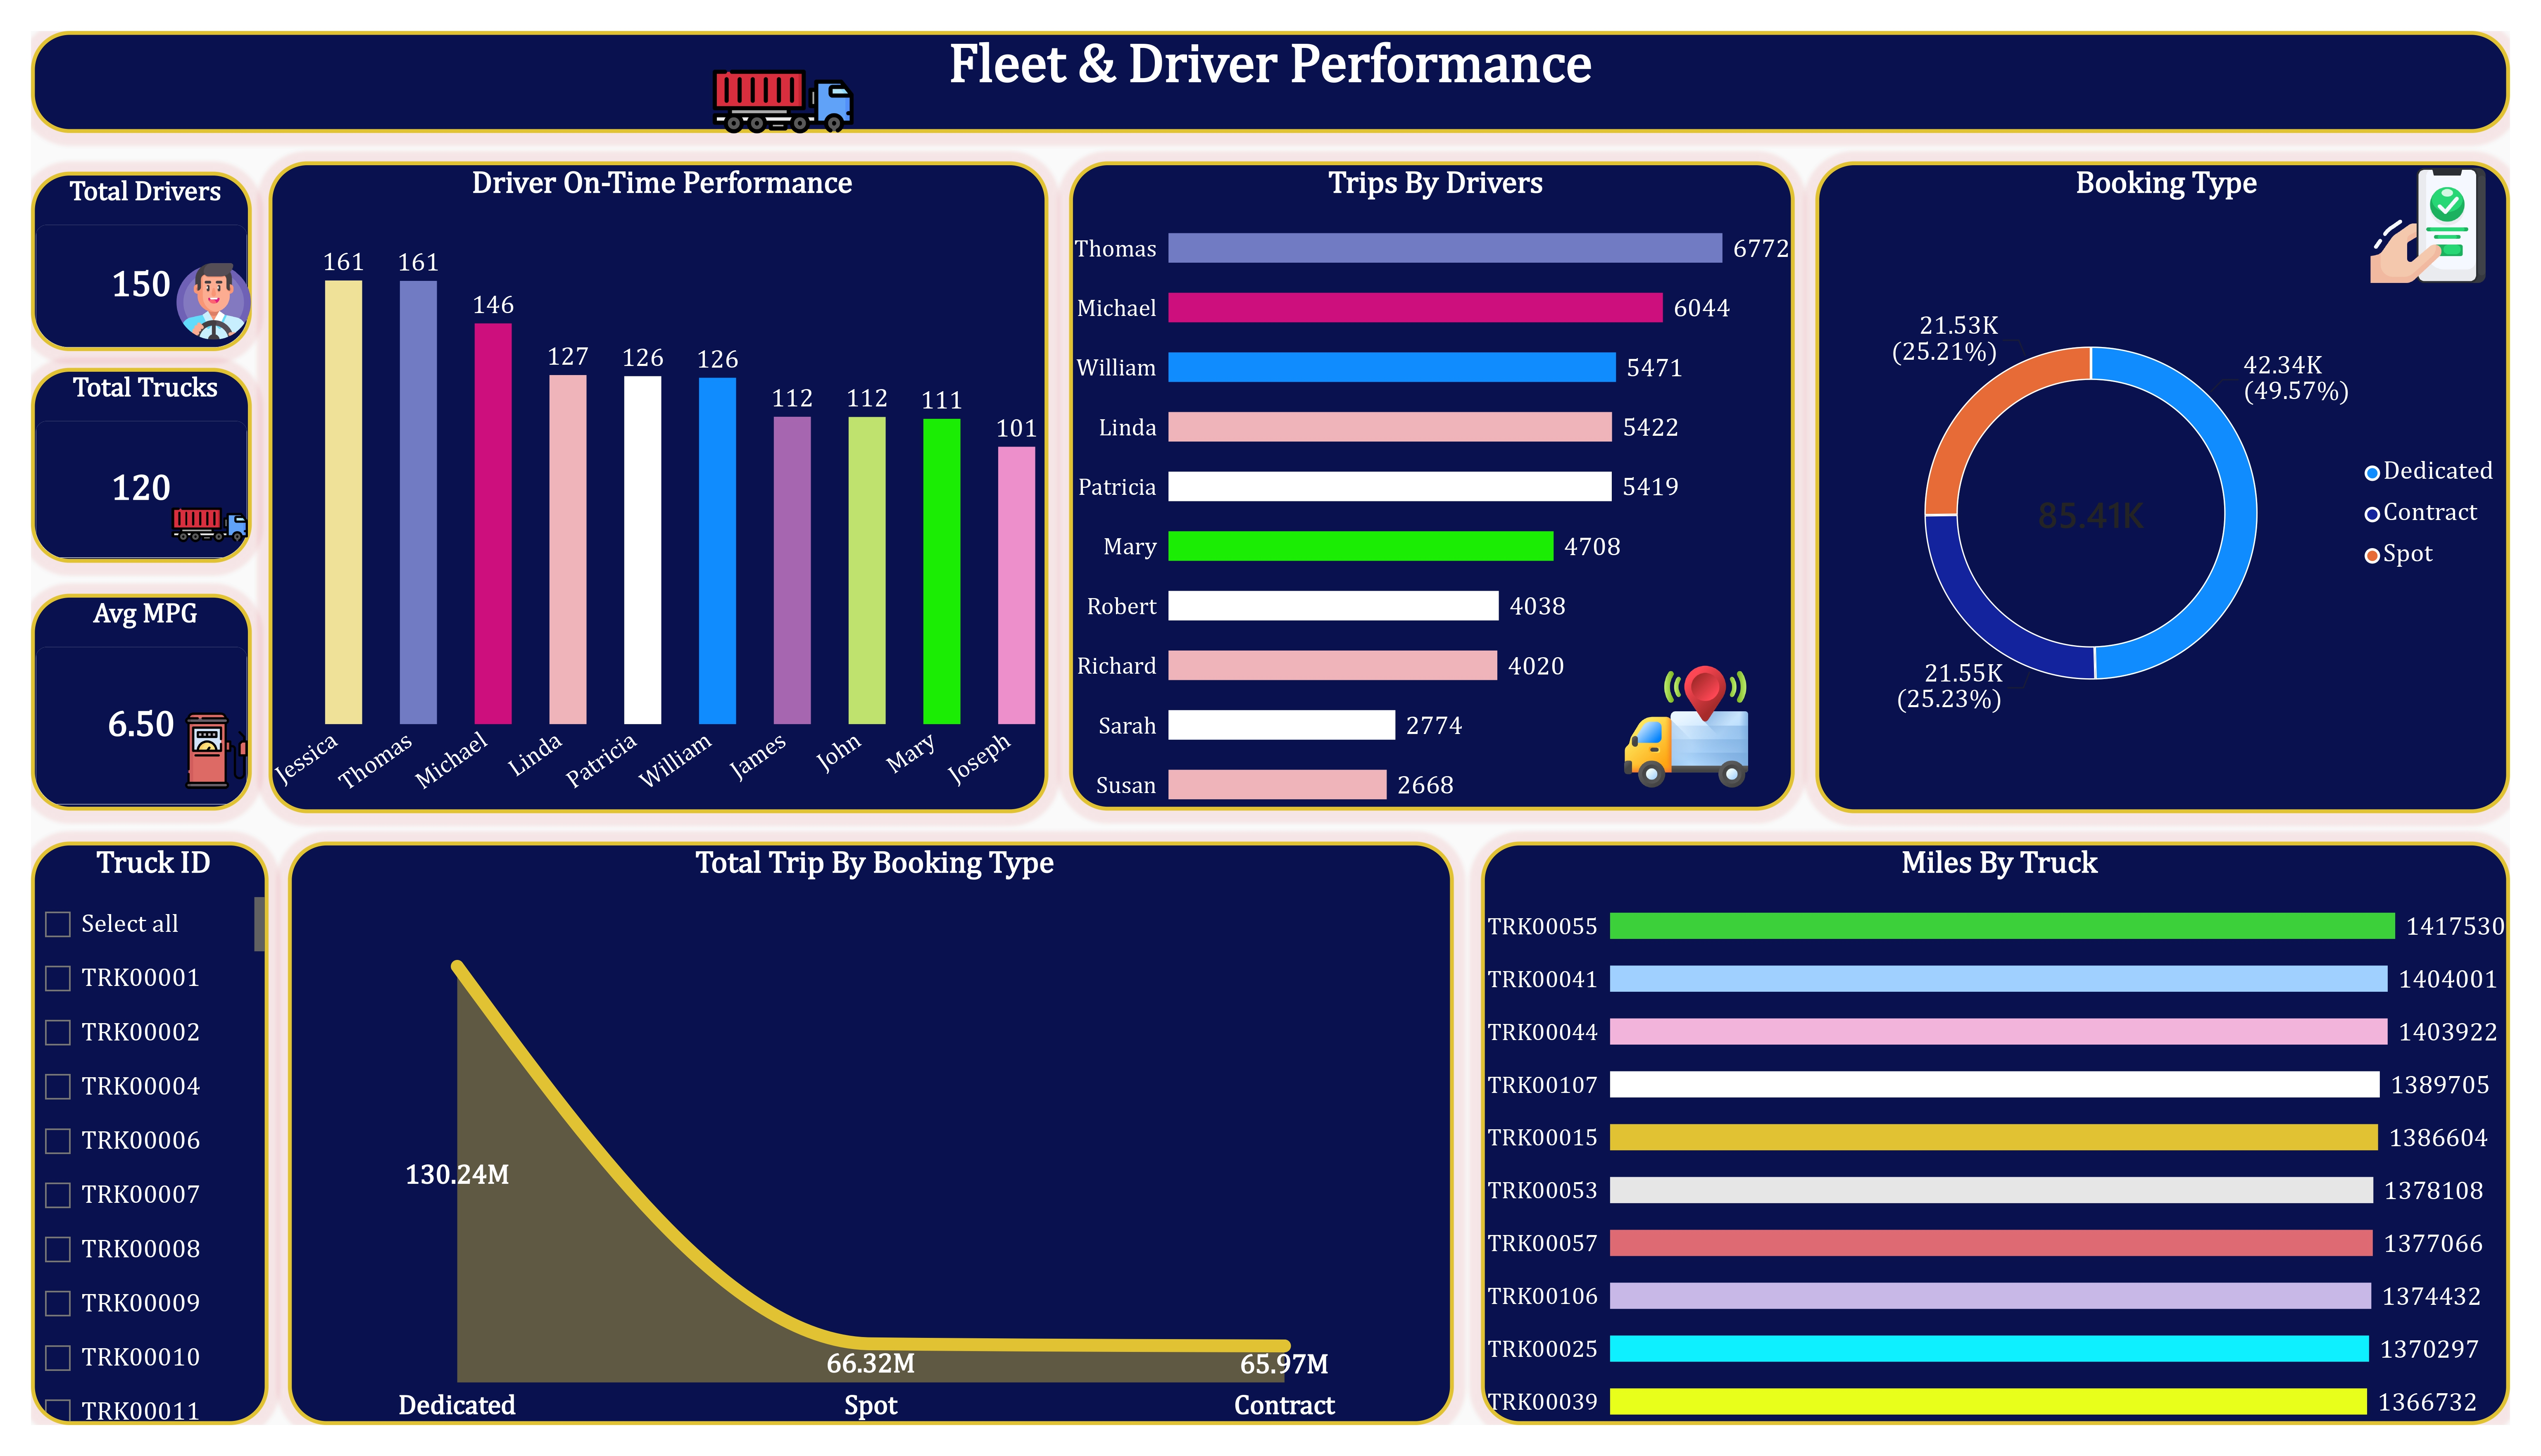

This screenshot's page, from the dashboard's own definition file:
{"tool":"powerbi","page":{"name":"Fleet","canvas":[1920,1080],"ordinal":0},"visuals":[{"type":"cardVisual","title":"Total Drivers","fields":{"Data":["CountNonNull(Drivers.driver_id)"]},"box":[0,108.6,171.2,139.9],"z":0},{"type":"cardVisual","title":"Total Trucks","fields":{"Data":["Count(Trucks.truck_id)"]},"box":[0,261.4,171.2,150.9],"z":1000},{"type":"cardVisual","title":"Avg MPG","fields":{"Data":["Avg(TruckUtilizationMetrics.average_mpg)"]},"box":[0,436.2,171.2,167.5],"z":2000},{"type":"slicer","title":"Truck ID","fields":{"Values":["TruckUtilizationMetrics.truck_id"]},"box":[0,627.6,184.1,452.8],"z":3000},{"type":"textbox","box":[0,0,1919.6,79.1],"z":4000},{"type":"clusteredColumnChart","title":"Driver On-Time Performance","fields":{"Category":["Drivers.first_name"],"Y":["Sum(Drivers Monthly Metrics.on_time_delivery_rate)"]},"box":[184.1,101.2,603.7,504.3],"z":5000},{"type":"barChart","title":"Trips By Drivers","fields":{"Category":["Drivers.first_name"],"Y":["Count(Trips.trip_id)"]},"box":[804.3,101.2,561.4,502.5],"z":6000},{"type":"donutChart","title":"Booking Type","fields":{"Category":["Load.booking_type"],"Y":["Count(Load.load_id)"]},"box":[1382.2,101.2,537.4,504.3],"z":7000},{"type":"stackedAreaChart","title":"Total Trip By Booking Type","fields":{"Category":["Load.booking_type"],"Y":["Sum(Load.revenue)"]},"box":[198.8,627.6,903.7,452.8],"z":8000},{"type":"clusteredBarChart","title":"Miles By Truck","fields":{"Category":["TruckUtilizationMetrics.truck_id"],"Y":["Sum(TruckUtilizationMetrics.total_miles)"]},"box":[1122.7,627.6,796.9,452.8],"z":9000},{"type":"image","box":[1211,491.4,141.7,95.7],"z":10000},{"type":"image","box":[1794.4,102.7,124,95],"z":11000},{"type":"image","box":[112.3,178.5,58.9,60.7],"z":12000},{"type":"image","box":[484.9,0,194,108.6],"z":13000},{"type":"image","box":[104.9,353.4,66.3,58.9],"z":14000},{"type":"image","box":[108.6,528.2,68.1,58.9],"z":15000}]}

Visuals, with their boxes on the page's 1920x1080 design canvas (x1, y1, x2, y2). These are canvas units, not pixel positions in the 2541x1456 screenshot, which may show the page scaled, cropped or inside an application window:
"Total Drivers" cardVisual: crop(0, 109, 171, 248)
"Total Trucks" cardVisual: crop(0, 261, 171, 412)
"Avg MPG" cardVisual: crop(0, 436, 171, 604)
"Truck ID" slicer: crop(0, 628, 184, 1080)
textbox: crop(0, 0, 1920, 79)
"Driver On-Time Performance" clusteredColumnChart: crop(184, 101, 788, 606)
"Trips By Drivers" barChart: crop(804, 101, 1366, 604)
"Booking Type" donutChart: crop(1382, 101, 1920, 606)
"Total Trip By Booking Type" stackedAreaChart: crop(199, 628, 1102, 1080)
"Miles By Truck" clusteredBarChart: crop(1123, 628, 1920, 1080)
image: crop(1211, 491, 1353, 587)
image: crop(1794, 103, 1918, 198)
image: crop(112, 178, 171, 239)
image: crop(485, 0, 679, 109)
image: crop(105, 353, 171, 412)
image: crop(109, 528, 177, 587)
